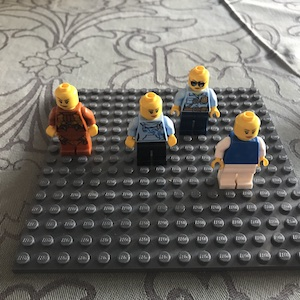Lego: (211, 109, 269, 190), (124, 91, 178, 165), (46, 83, 99, 156), (169, 66, 219, 134)
